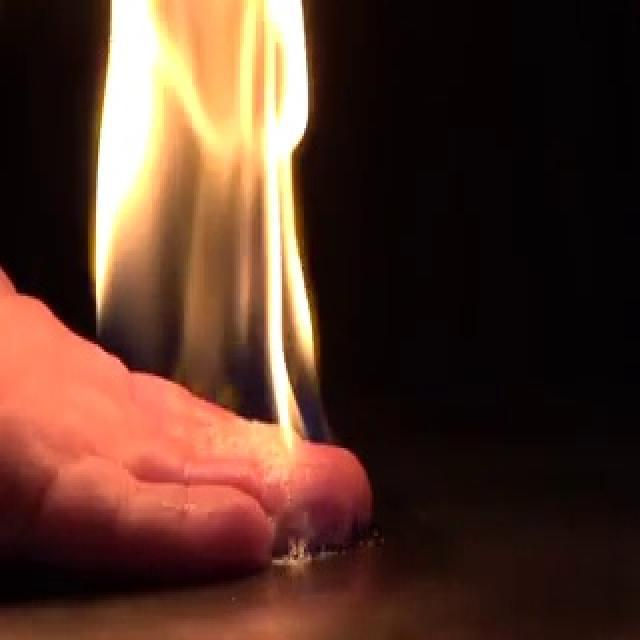Fire: (86, 1, 332, 449)
